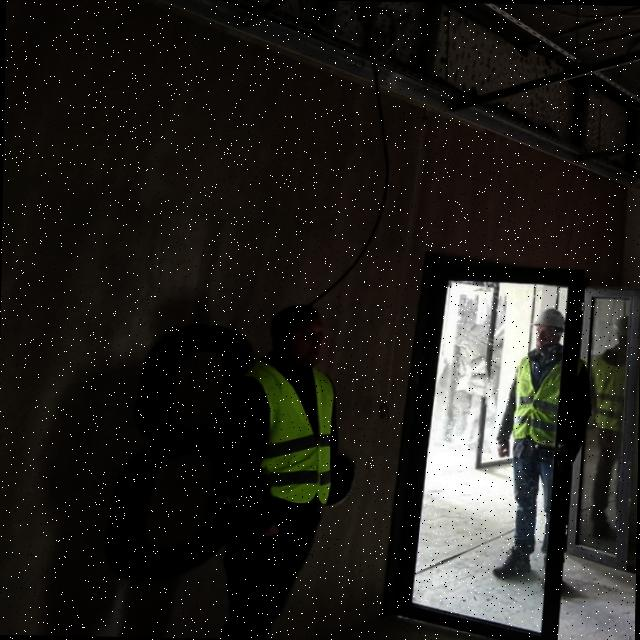Helmet: (533, 307, 568, 349)
NoHelmet: (267, 303, 330, 374)
